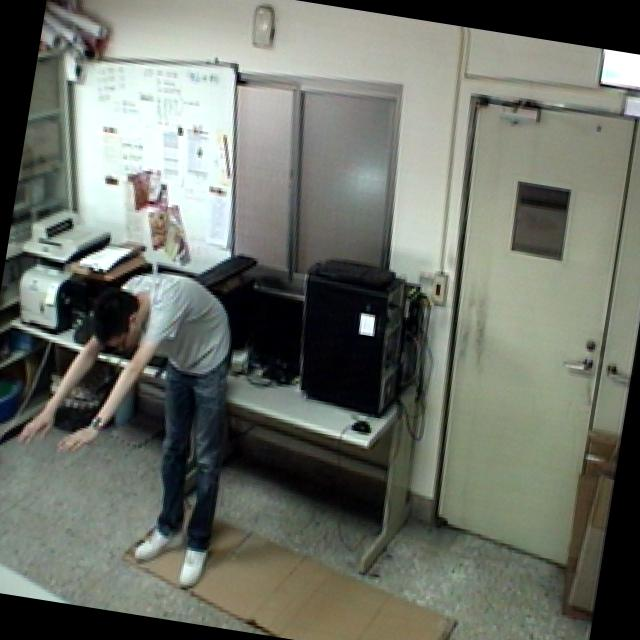bend: (0, 251, 255, 598)
